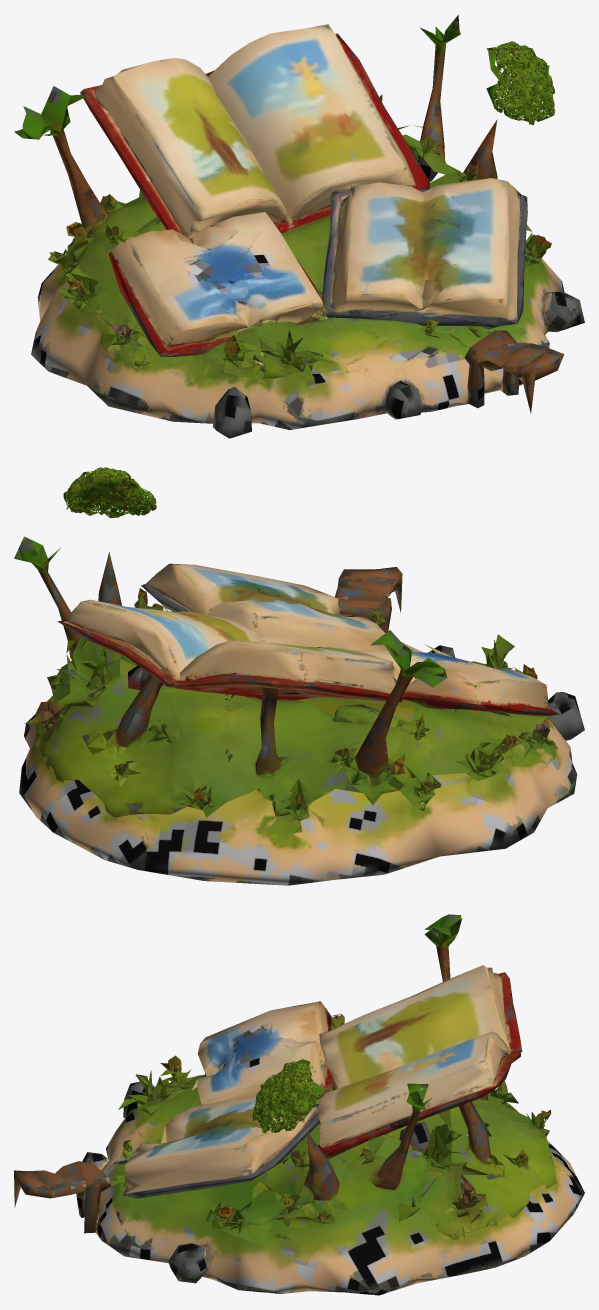
The model's file is isl-03.glb.
3 views of the same model, one above another, from view 1: azimuth 30°, elevation 25°; view 2: azimuth 150°, elevation 25°; view 3: azimuth 270°, elevation 25° (orthographic). The views are drawn at different scales.
Visible parts, largest first — view 1: world; view 2: world; view 3: world.
Part boxes in pixels (bbox=[...]): world: bbox=[14, 14, 584, 438]; world: bbox=[14, 467, 584, 885]; world: bbox=[14, 914, 584, 1295].
Size of the model in its own units: 0.8705 by 0.415 by 0.9811.
Materials: 1 (1 with a texture image).
